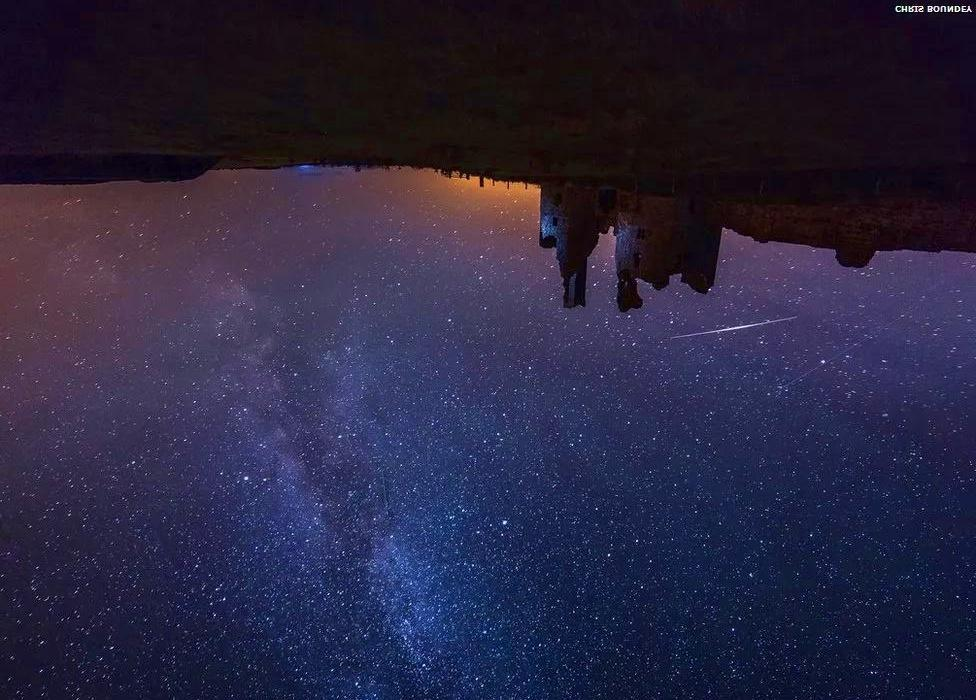meteorite: (653, 311, 814, 341)
